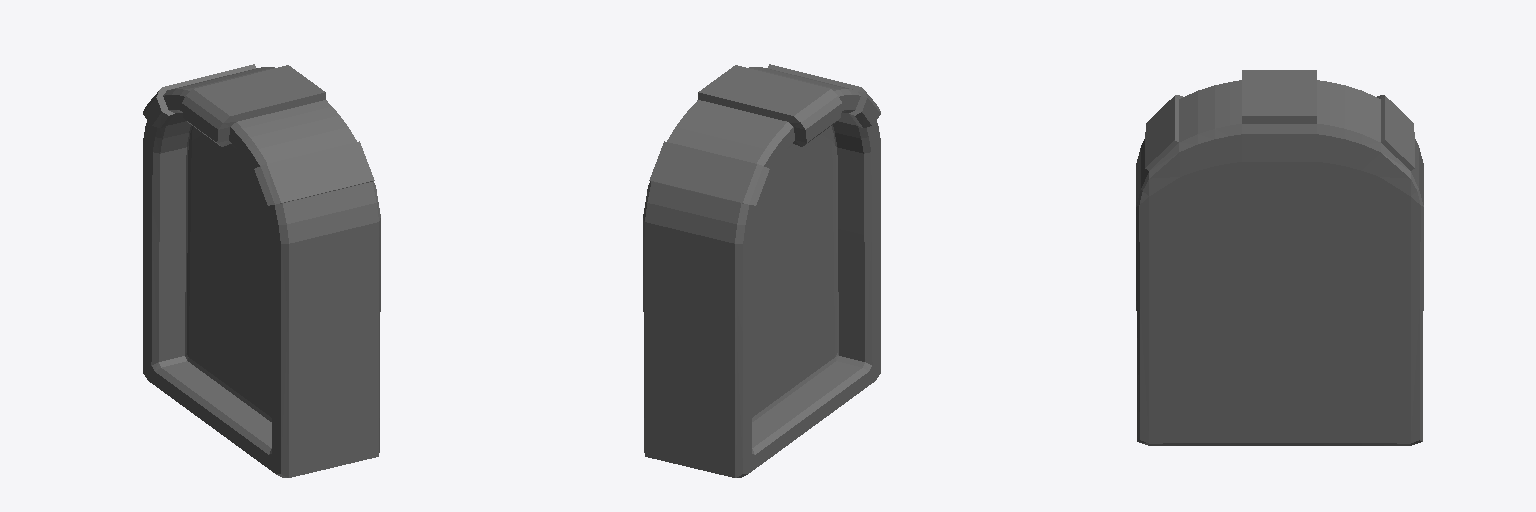
Rendered from roundWindow_2.obj.
3 views of the same model, side by side, from view 1: azimuth 30°, elevation 25°; view 2: azimuth 150°, elevation 25°; view 3: azimuth 270°, elevation 25° (orthographic).
Visible parts, largest first — view 1: Mesh; view 2: Mesh; view 3: Mesh.
Boxes of the visible parts, <box> form: Mesh: <box>143,64,380,477</box>; Mesh: <box>643,64,880,477</box>; Mesh: <box>1136,70,1423,445</box>.
Bounding box in the file's own units: 0.152 × 0.4283 × 0.3388.